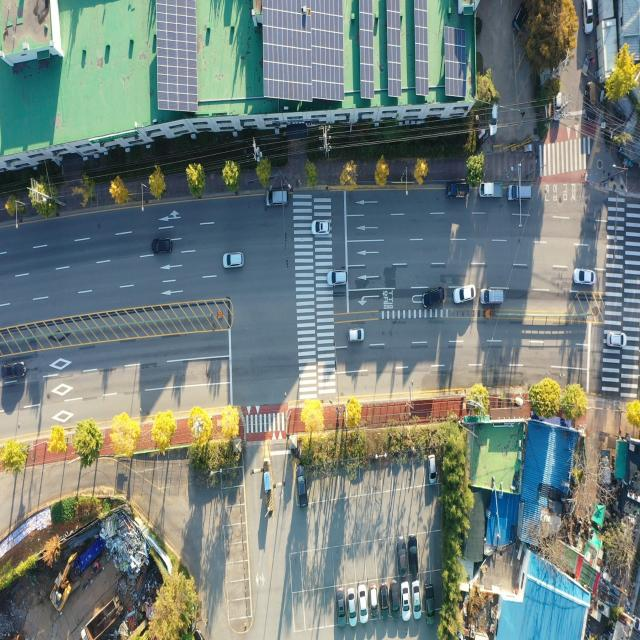car: (1, 360, 27, 383), (581, 0, 593, 36), (423, 288, 444, 308), (508, 184, 532, 201), (297, 464, 307, 503), (396, 537, 406, 575), (267, 189, 289, 206), (222, 252, 244, 268), (425, 585, 434, 623), (454, 286, 474, 303), (605, 334, 626, 350), (410, 537, 419, 574), (329, 271, 349, 287), (152, 238, 172, 254), (490, 101, 499, 136), (381, 584, 390, 618), (576, 270, 596, 285), (358, 585, 366, 622), (414, 582, 422, 619), (338, 589, 346, 625), (369, 585, 377, 619), (515, 6, 525, 33), (391, 582, 398, 619), (312, 220, 330, 234), (401, 584, 408, 618), (556, 95, 564, 124), (349, 328, 364, 342), (430, 454, 436, 482)
medium_truck: (80, 594, 126, 640)
small_truck: (482, 288, 506, 305), (481, 185, 505, 202), (447, 182, 470, 199), (586, 84, 596, 123)
